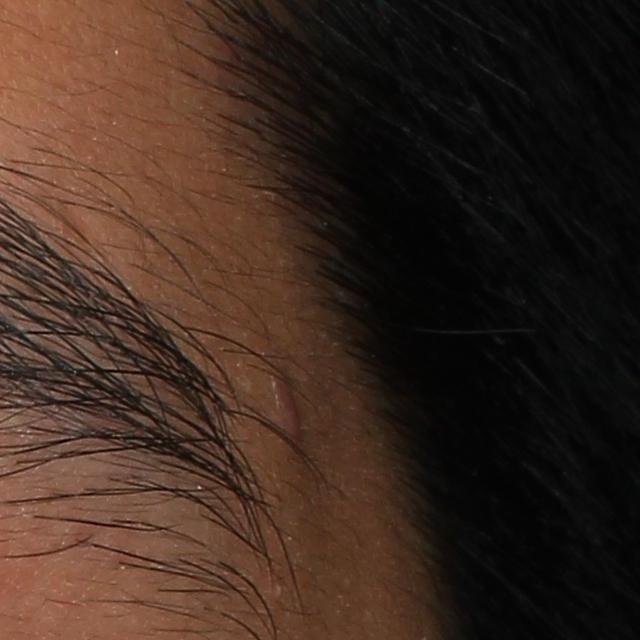papule: (262, 365, 308, 453)
